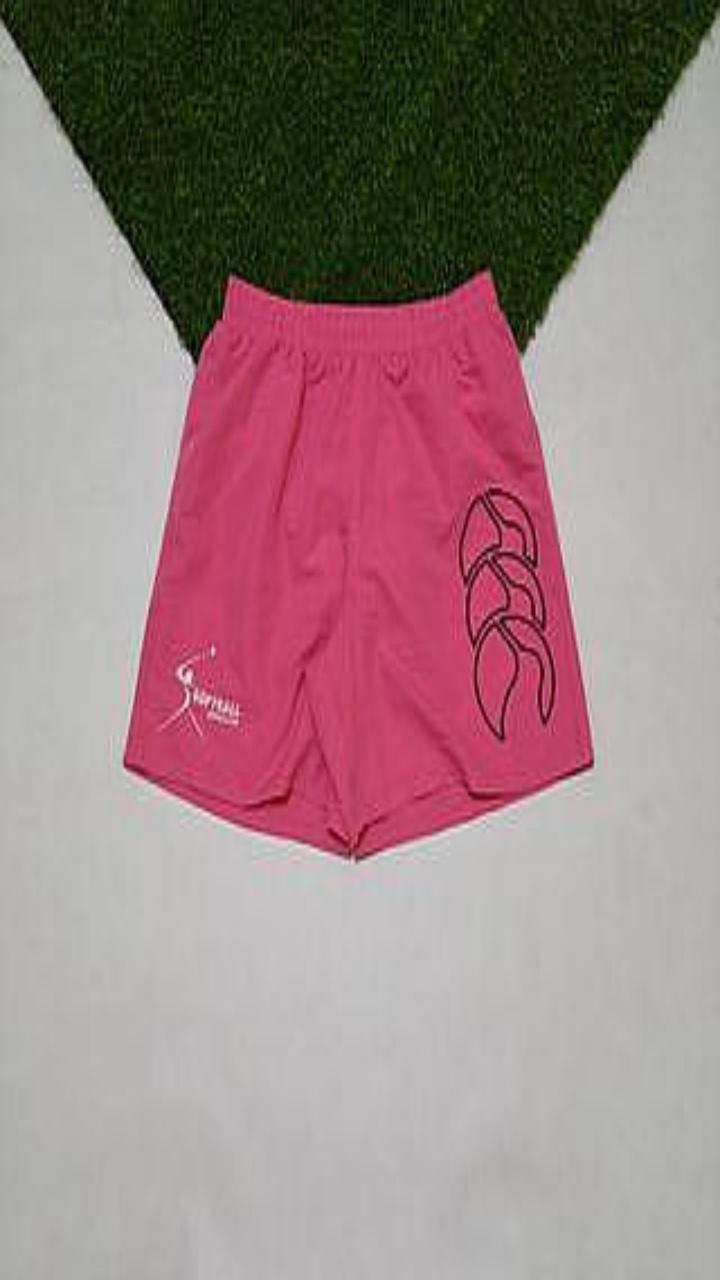Shorts: (124, 270, 592, 858)
